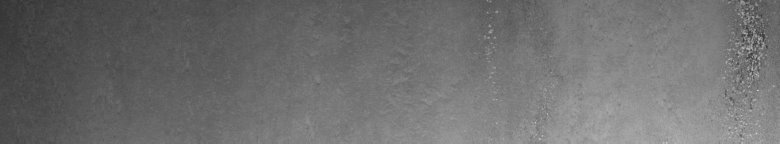hc: (724, 4, 775, 136)
